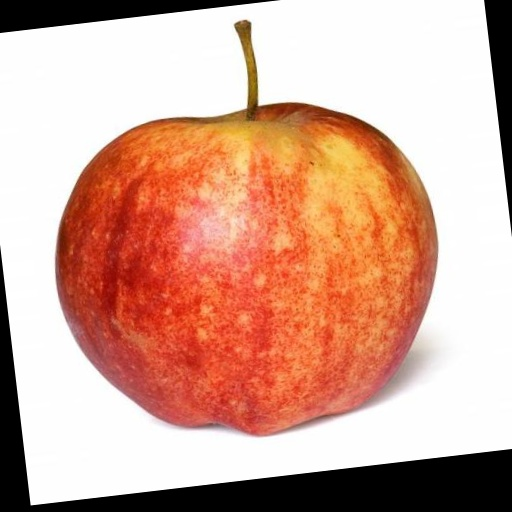fruit: (56, 22, 437, 434)
